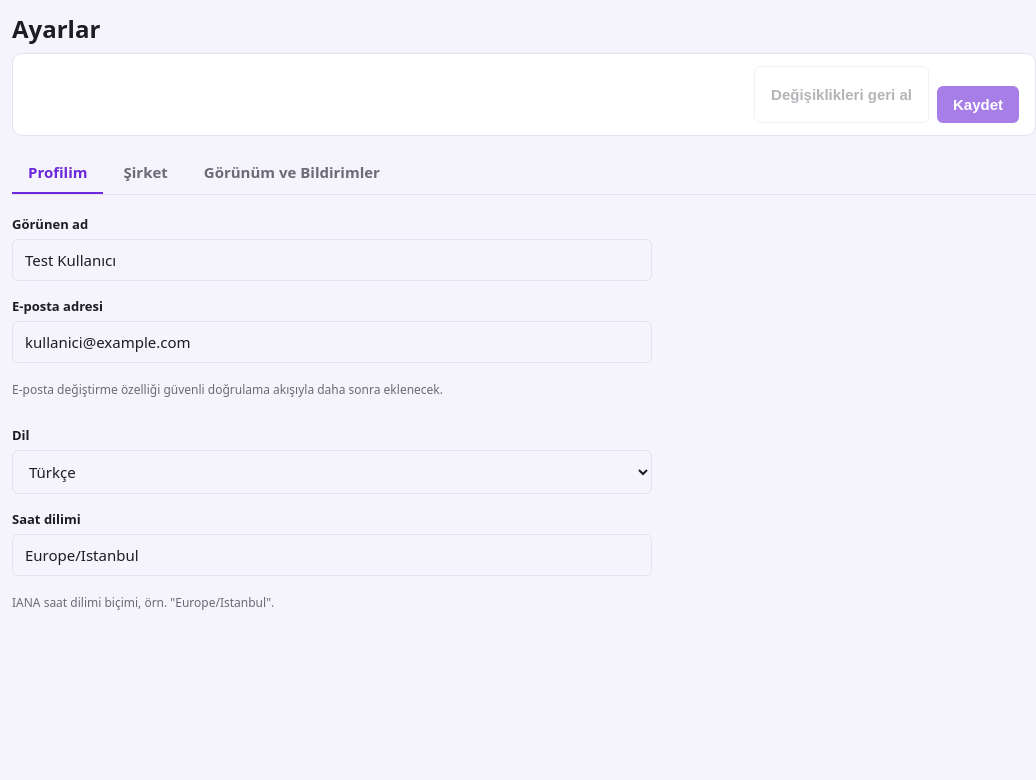
Test: Settings › değişiklikleri geri al eski değerlere döndürür
Replace the text in the field labelled "Görünen ad" with "Yeni Ad" at (332, 260), box [12,239,652,281]
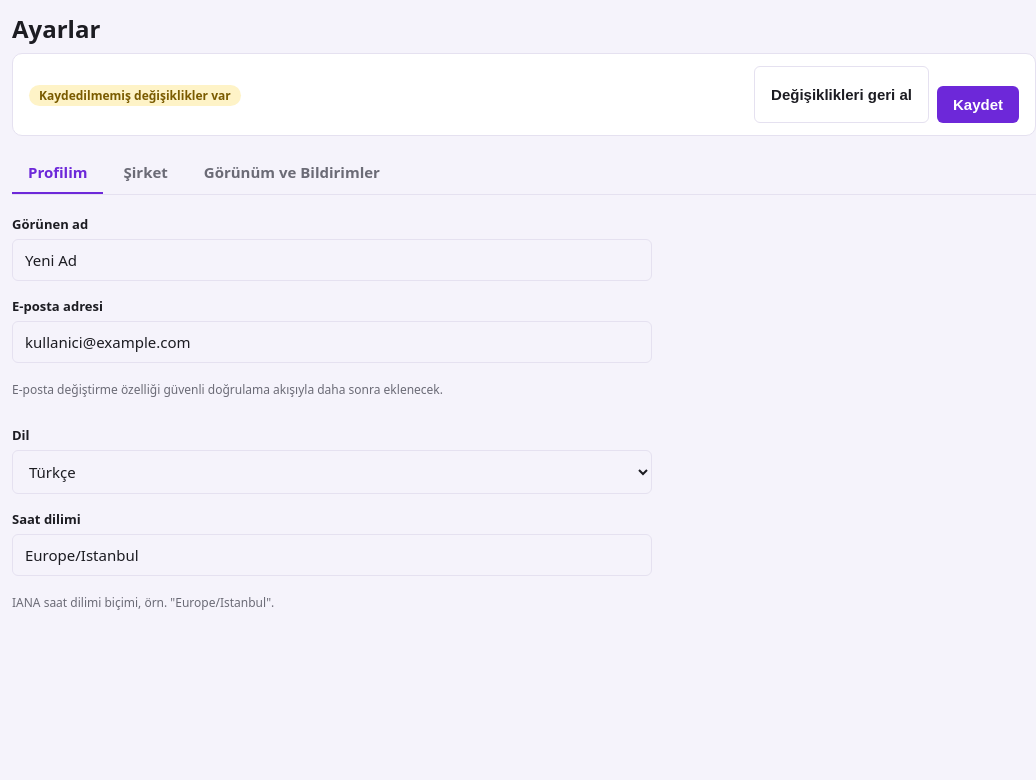
Click the button "Değişiklikleri geri al" at (842, 94), box [754,66,929,123]
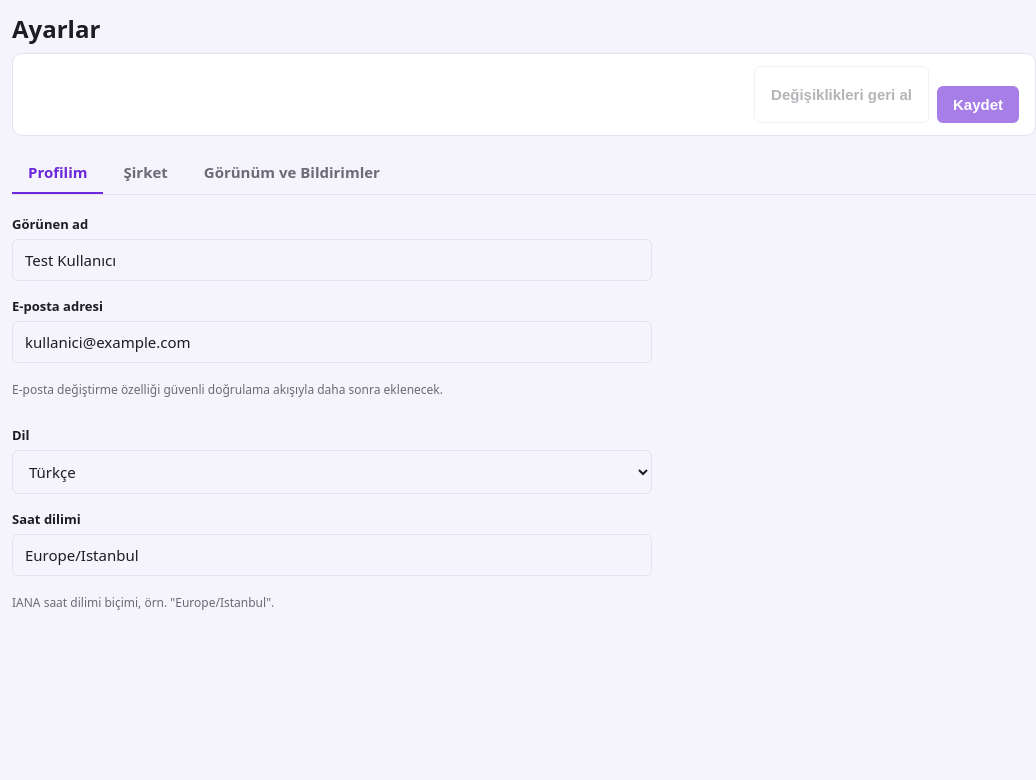
Expected: the field labelled "Görünen ad" holds "Test Kullanıcı", [12,239,652,281]
Expected: the text "Kaydedilmemiş değişiklikler var" is gone
